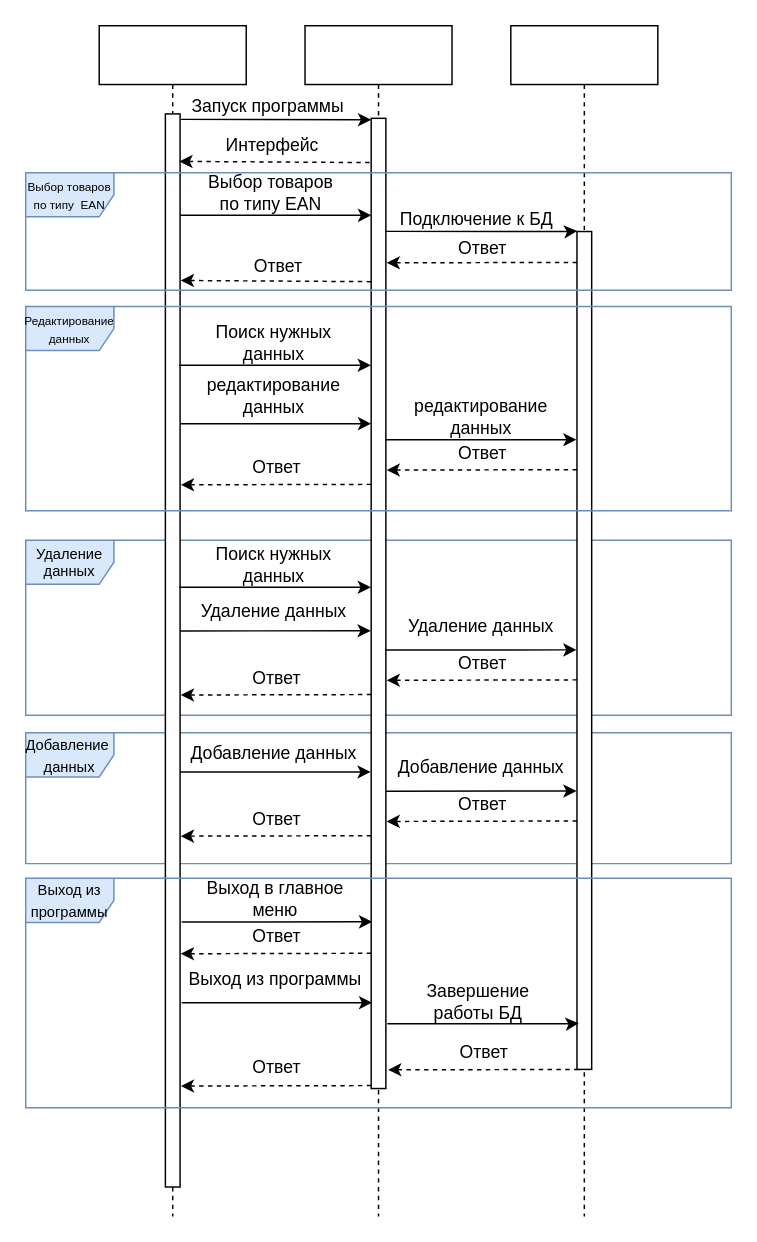
Image size: 757x1242. Some labels were removed from this diagram. The shapes that lost their labels are listed below. From the top down, each one's box as (x1, y1, x2, y2) in pixels, then its label:
(98, 24, 246, 1216): Пользователь
(304, 24, 452, 1216): Программа
(509, 24, 658, 1216): База данных
